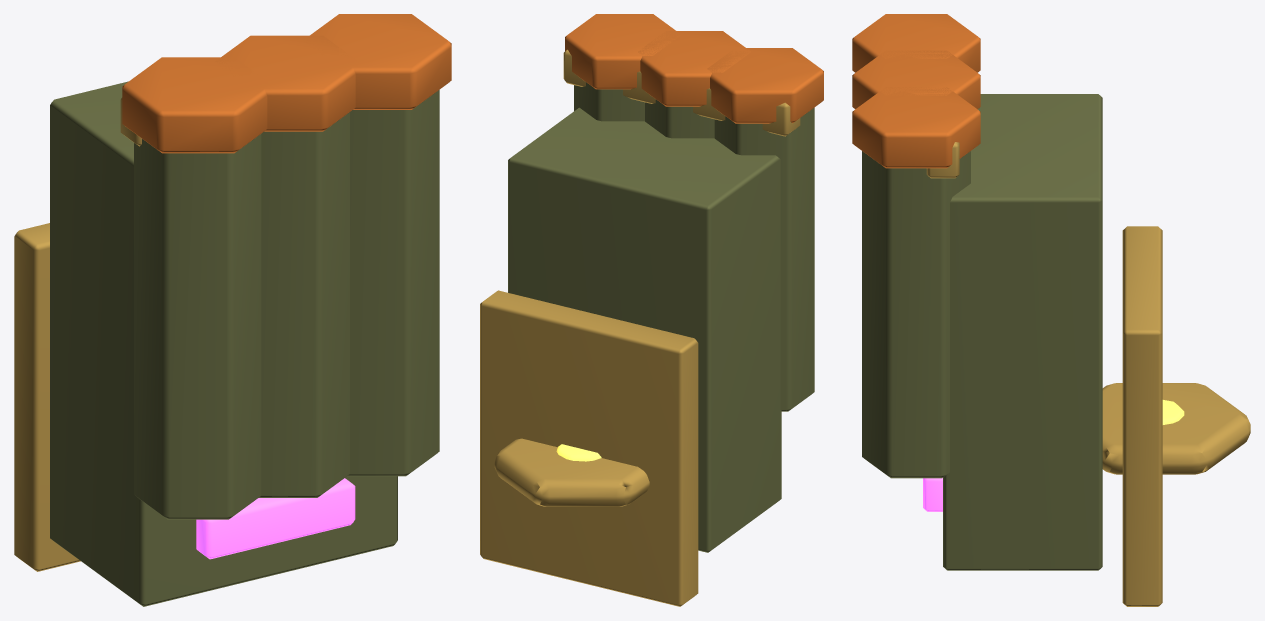
The model's file is quivergear_sky_rack.glb.
The picture shows the model from 3 angles, left to right: view 1: azimuth 30°, elevation 25°; view 2: azimuth 150°, elevation 25°; view 3: azimuth 270°, elevation 25°; orthographic projection. The views are drawn at different scales.
Parts seen in each view (by area): view 1: quivergear_sky_rack; view 2: quivergear_sky_rack; view 3: quivergear_sky_rack.
Boxes of the visible parts, x1,y1,x2,y2 form: quivergear_sky_rack: (14, 14, 451, 606); quivergear_sky_rack: (480, 14, 823, 606); quivergear_sky_rack: (852, 14, 1250, 606).
Bounding box in the file's own units: 0.4332 × 0.8 × 0.5992.
Materials: 1 (1 with a texture image).
